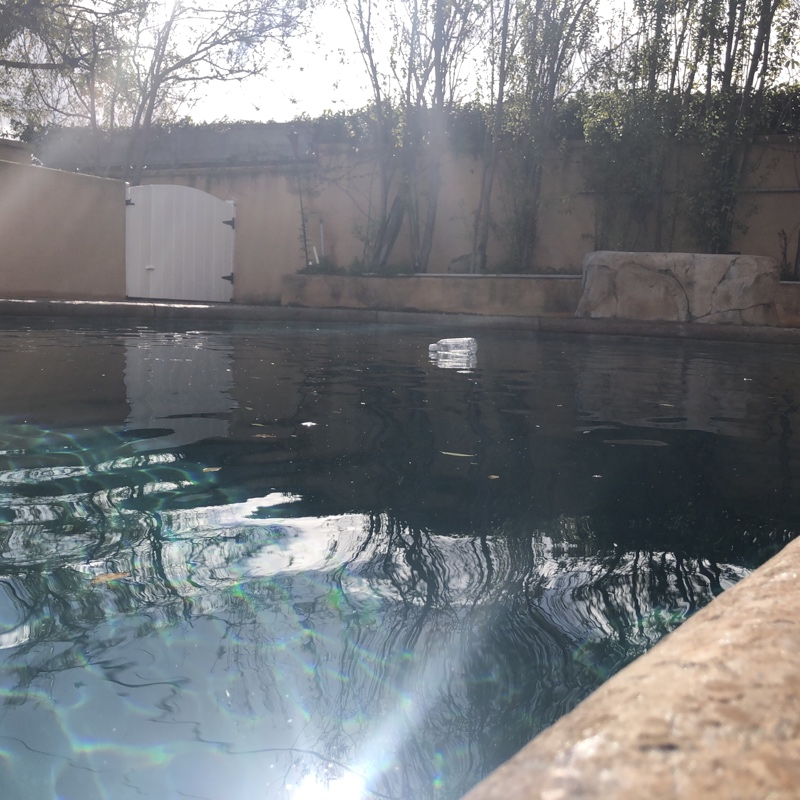Plastic Bottle: (431, 336, 476, 353)
